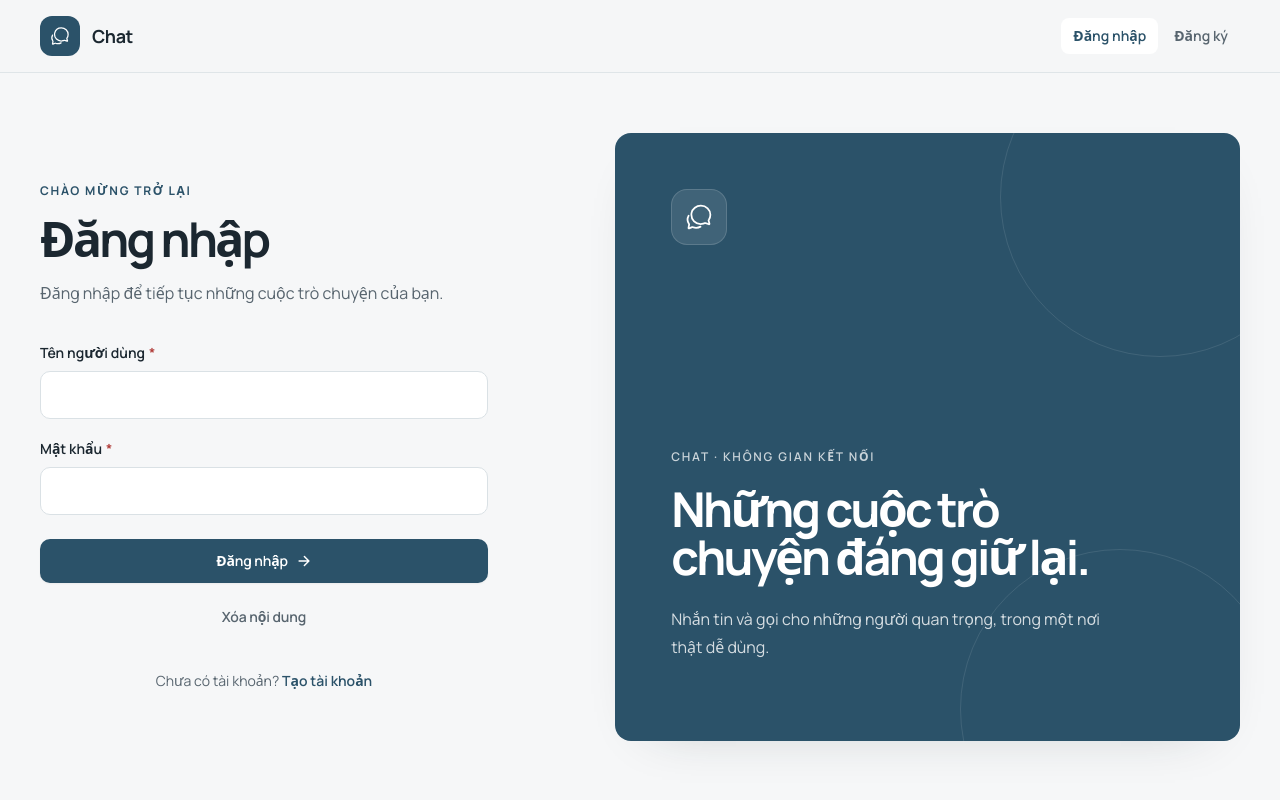
login shows field errors and does not send an incomplete request
This screenshot has width=1280, height=800.
Expected: the heading "Đăng nhập" is shown, [40,206,269,271]
Click the button "Đăng nhập".
click(264, 561)  # box [40,539,488,583]
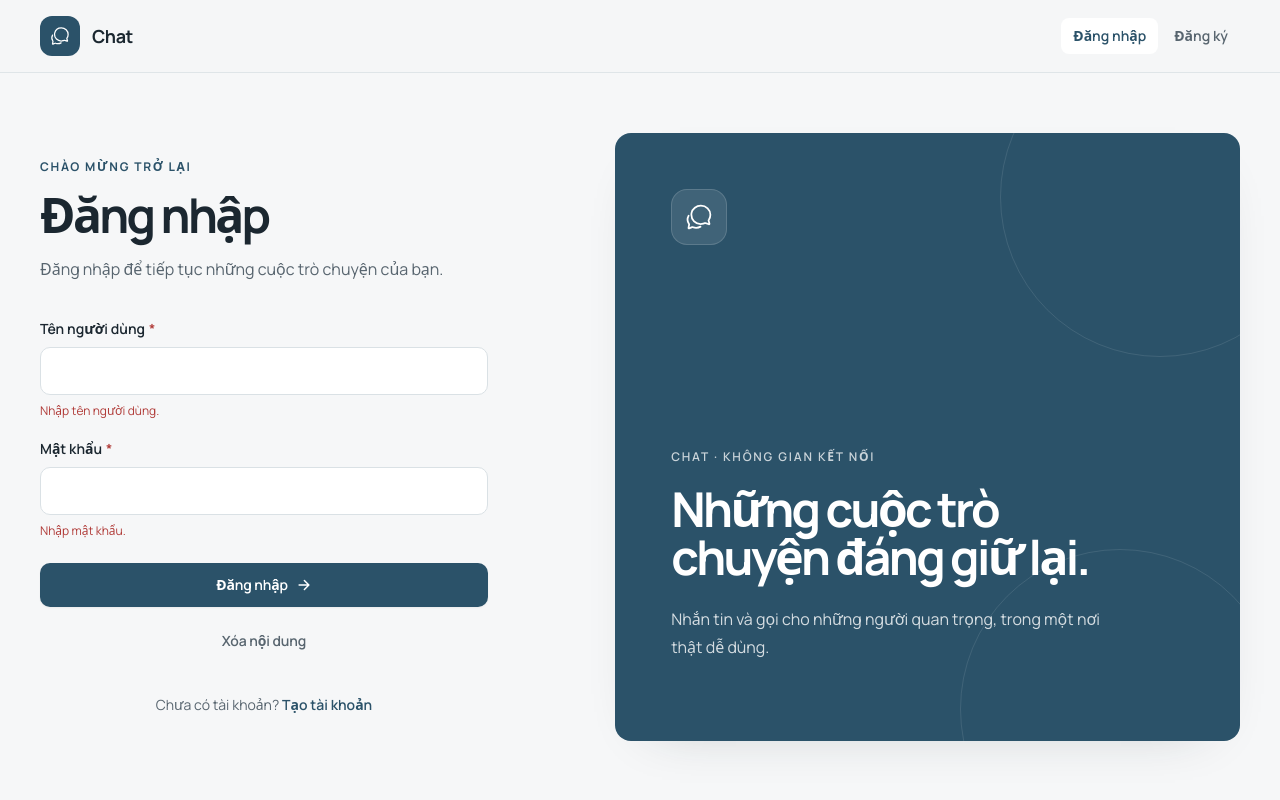
Result: the text "Nhập tên người dùng." is shown at [40,402,159,419]
Result: the text "Nhập mật khẩu." is shown at [40,522,126,539]
